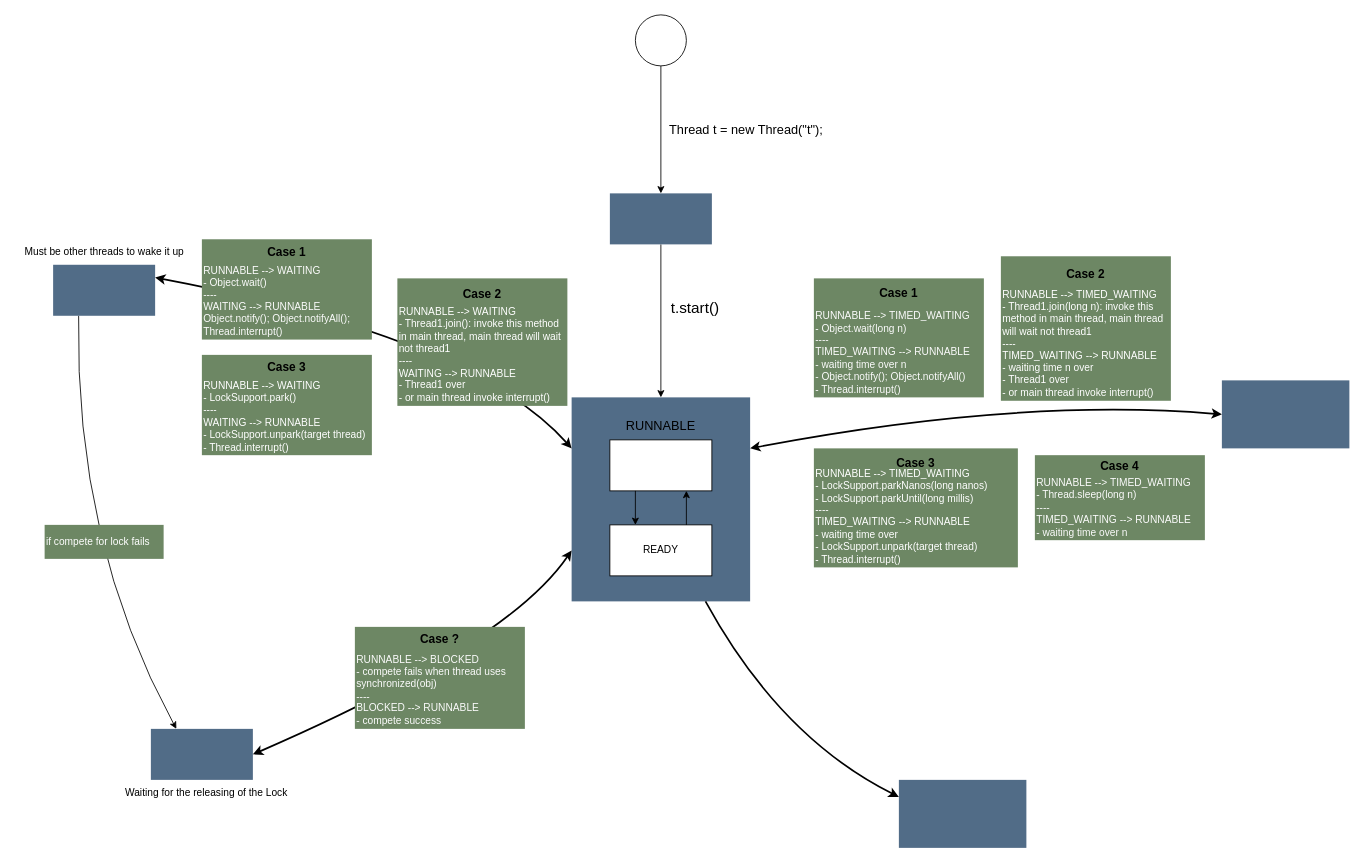
This 1363x863 diagram has some shape labels left out. Here are the shapes that lost their labels. From the top down, the centre of each, then its label:
(660,218): NEW
(104,289): WAITING
(1285,414): TIMED_WAITING
(660,465): RUNNING
(201,753): BLOCKED
(962,813): TERMINATED
